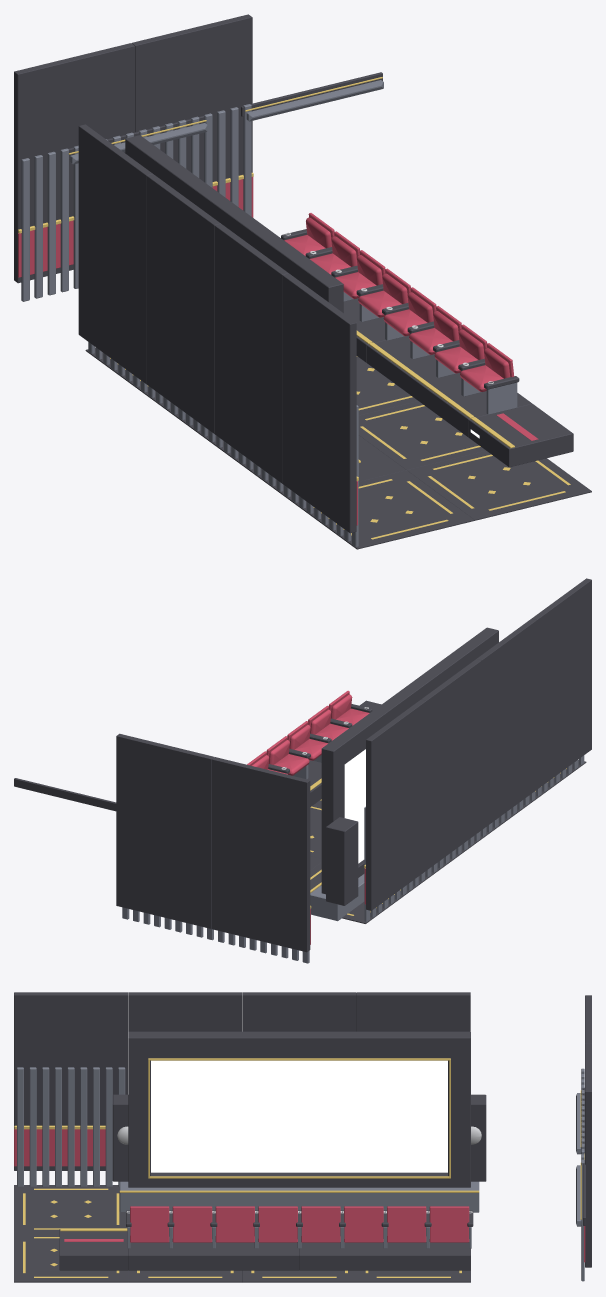
File: cinema-auditorium-light.glb
The picture shows the model from 3 angles, top to bottom: view 1: azimuth 30°, elevation 25°; view 2: azimuth 150°, elevation 25°; view 3: azimuth 270°, elevation 25°; orthographic projection. The views are drawn at different scales.
Visible parts, largest first — view 1: 114-acoustic-wall-panel-module0, 111-acoustic-wall-panel-module0, 112-acoustic-wall-panel-module0, 113-acoustic-wall-panel-module0, 115-acoustic-wall-panel-module0, 116-acoustic-wall-panel-module0, 074-aisle-floor-tile0, 018-cinema-screen-and-masking1, 115-acoustic-wall-panel-module1, 069-aisle-floor-tile0, 004-tiered-seating-row0, 073-aisle-floor-tile0 (+14 smaller); view 2: 115-acoustic-wall-panel-module0, 116-acoustic-wall-panel-module0, 111-acoustic-wall-panel-module0, 112-acoustic-wall-panel-module0, 113-acoustic-wall-panel-module0, 114-acoustic-wall-panel-module0, 018-cinema-screen-and-masking1, 004-tiered-seating-row4, 018-cinema-screen-and-masking2, 018-cinema-screen-and-masking0, 004-tiered-seating-row0, 130-side-wall-light-strip0 (+5 smaller); view 3: 018-cinema-screen-and-masking2, 018-cinema-screen-and-masking1, 114-acoustic-wall-panel-module0, 114-acoustic-wall-panel-module1, 018-cinema-screen-and-masking0, 003-tiered-seating-row4, 004-tiered-seating-row4, 003-tiered-seating-row0, 004-tiered-seating-row0, 069-aisle-floor-tile0, 112-acoustic-wall-panel-module0, 113-acoustic-wall-panel-module0 (+13 smaller).
Part boxes in pixels (x1,y1,x2,y2): 114-acoustic-wall-panel-module0: [282, 273, 356, 533]; 111-acoustic-wall-panel-module0: [78, 124, 152, 383]; 112-acoustic-wall-panel-module0: [146, 174, 220, 433]; 113-acoustic-wall-panel-module0: [214, 224, 288, 483]; 115-acoustic-wall-panel-module0: [14, 43, 134, 283]; 116-acoustic-wall-panel-module0: [131, 14, 252, 181]; 074-aisle-floor-tile0: [407, 450, 591, 520]; 018-cinema-screen-and-masking1: [125, 135, 343, 312]; 115-acoustic-wall-panel-module1: [21, 132, 133, 301]; 069-aisle-floor-tile0: [289, 470, 474, 549]; 004-tiered-seating-row0: [367, 304, 532, 437]; 073-aisle-floor-tile0: [358, 401, 485, 469]; 115-acoustic-wall-panel-module0: [212, 757, 310, 952]; 116-acoustic-wall-panel-module0: [116, 733, 214, 928]; 111-acoustic-wall-panel-module0: [366, 699, 426, 910]; 112-acoustic-wall-panel-module0: [421, 659, 481, 870]; 113-acoustic-wall-panel-module0: [476, 619, 536, 829]; 114-acoustic-wall-panel-module0: [531, 578, 591, 789]; 018-cinema-screen-and-masking1: [321, 627, 498, 905]; 004-tiered-seating-row4: [266, 690, 352, 764]; 018-cinema-screen-and-masking2: [344, 749, 365, 863]; 018-cinema-screen-and-masking0: [310, 874, 364, 921]; 004-tiered-seating-row0: [268, 704, 372, 806]; 130-side-wall-light-strip0: [14, 778, 116, 811]; 018-cinema-screen-and-masking2: [151, 1060, 447, 1172]; 018-cinema-screen-and-masking1: [112, 1031, 486, 1187]; 114-acoustic-wall-panel-module0: [14, 992, 127, 1170]; 114-acoustic-wall-panel-module1: [17, 1067, 125, 1186]; 018-cinema-screen-and-masking0: [119, 1181, 479, 1212]; 003-tiered-seating-row4: [301, 1206, 469, 1242]; 004-tiered-seating-row4: [130, 1206, 297, 1242]; 003-tiered-seating-row0: [298, 1210, 473, 1270]; 004-tiered-seating-row0: [126, 1210, 300, 1270]; 069-aisle-floor-tile0: [14, 1185, 127, 1233]; 112-acoustic-wall-panel-module0: [242, 992, 356, 1031]; 113-acoustic-wall-panel-module0: [128, 992, 242, 1031].
Bounding box in the file's own units: 6.32 × 3.69 × 10.12.
